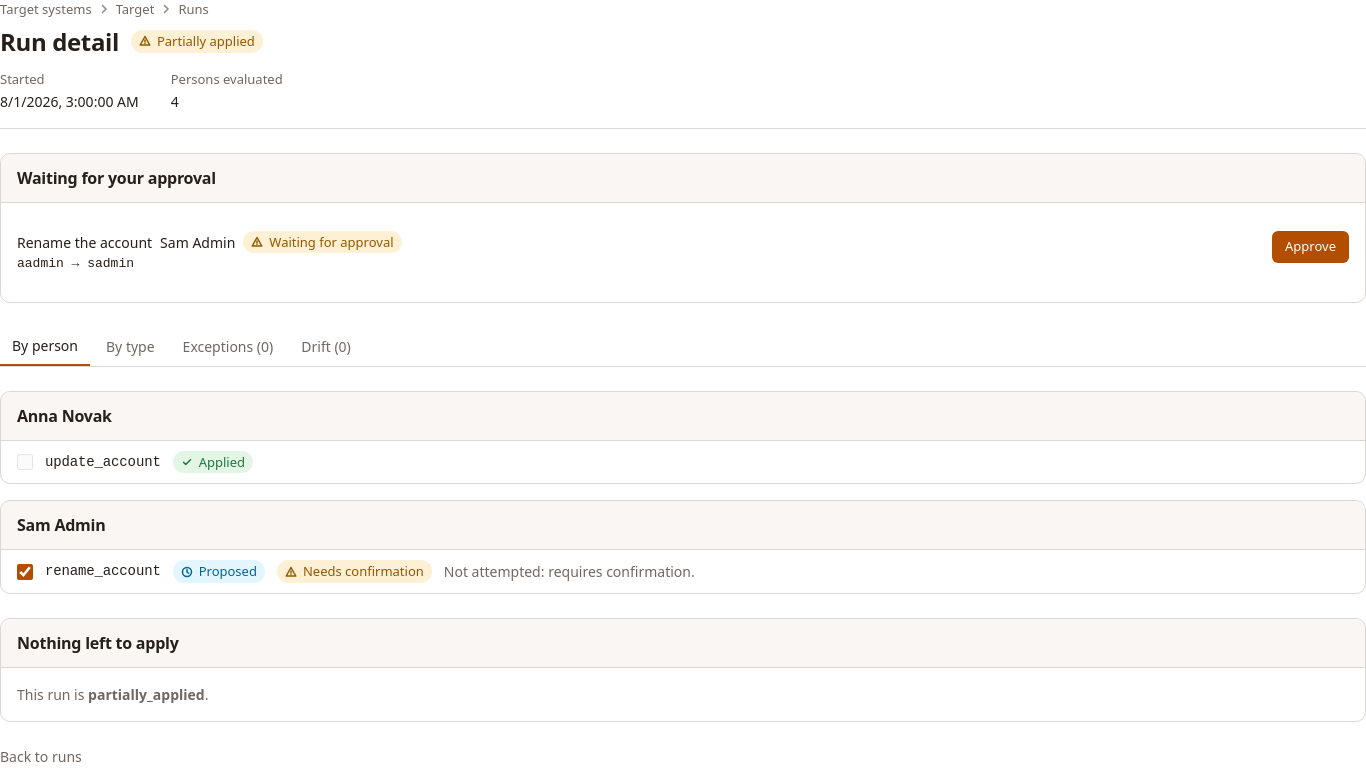
Test: ProvisionRunDetailPage: held actions on a finished run › asks first, says the sign-in name changes, then approves and says a run was queued
Click the button "Approve".
click(1310, 247)  # box top-left (1272, 231), bottom-right (1349, 263)
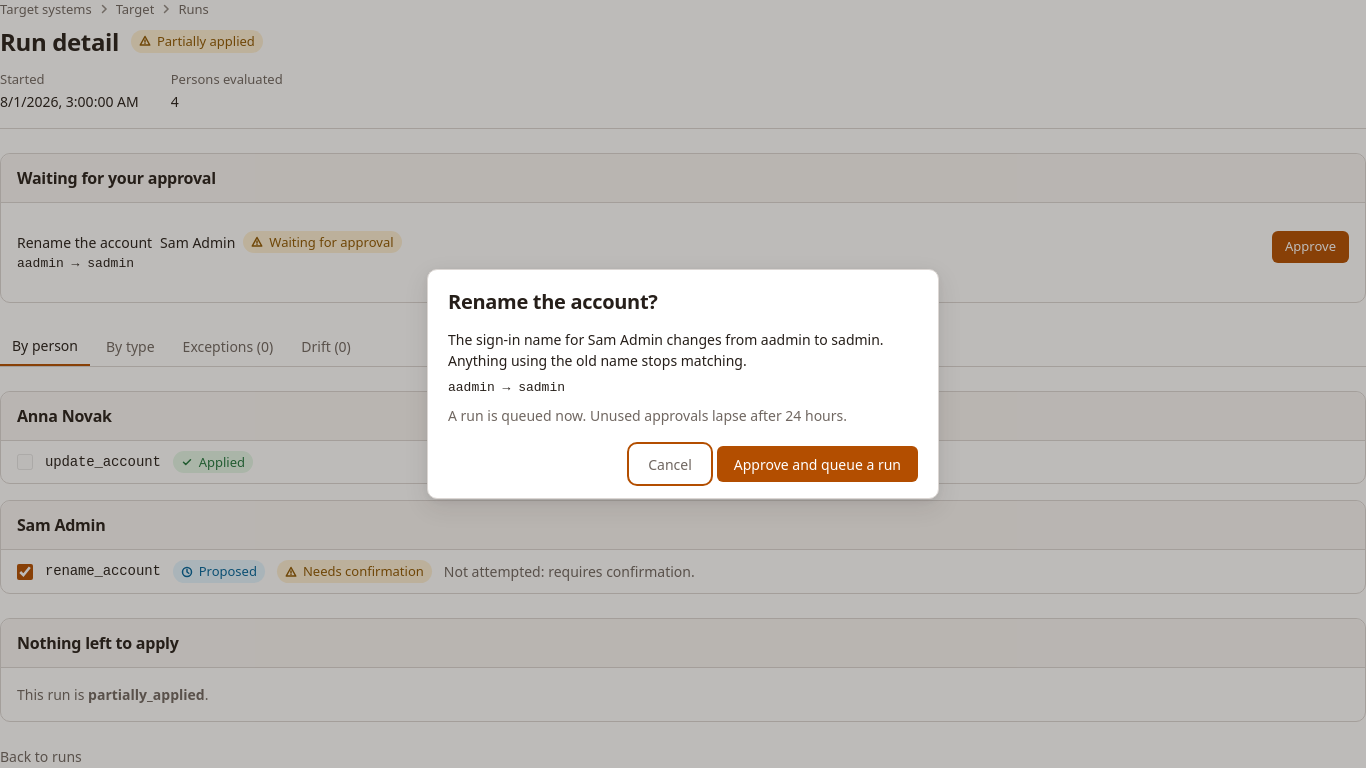
Result: the dialog shows "Rename the account?" at top-left (448, 288), bottom-right (658, 315)
Result: the dialog shows "The sign-in name for Sam Admin changes from aadmin to sadmin" at top-left (448, 330), bottom-right (884, 370)
Result: the dialog shows "A run is queued now" at top-left (448, 406), bottom-right (847, 425)
Click the button "Approve and queue a run".
click(817, 464)  # box top-left (717, 446), bottom-right (918, 482)
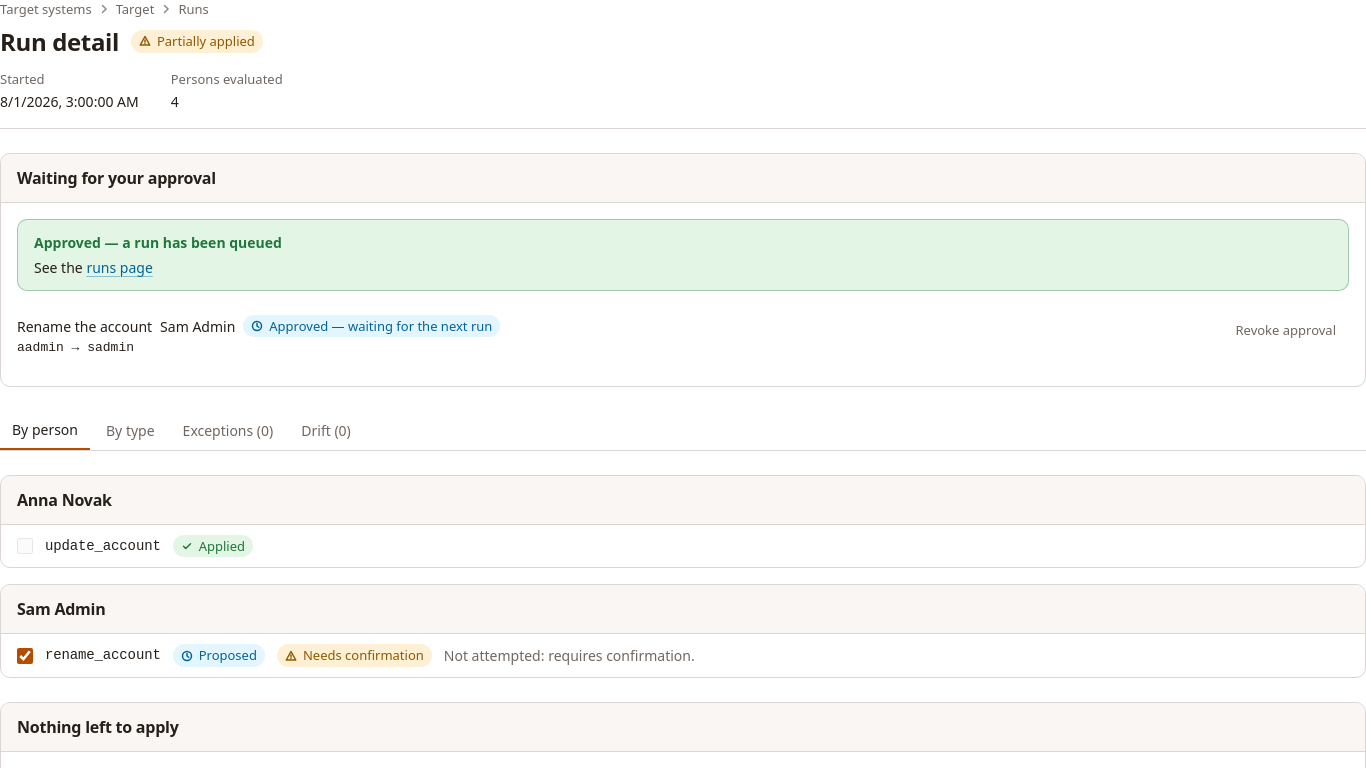
Result: the text "Approved — a run has been queued" is shown at top-left (34, 233), bottom-right (282, 252)
Result: the text "Approved — waiting for the next run" is shown at top-left (243, 315), bottom-right (500, 337)
Result: the button "Revoke approval" is shown at top-left (1222, 315), bottom-right (1349, 347)
